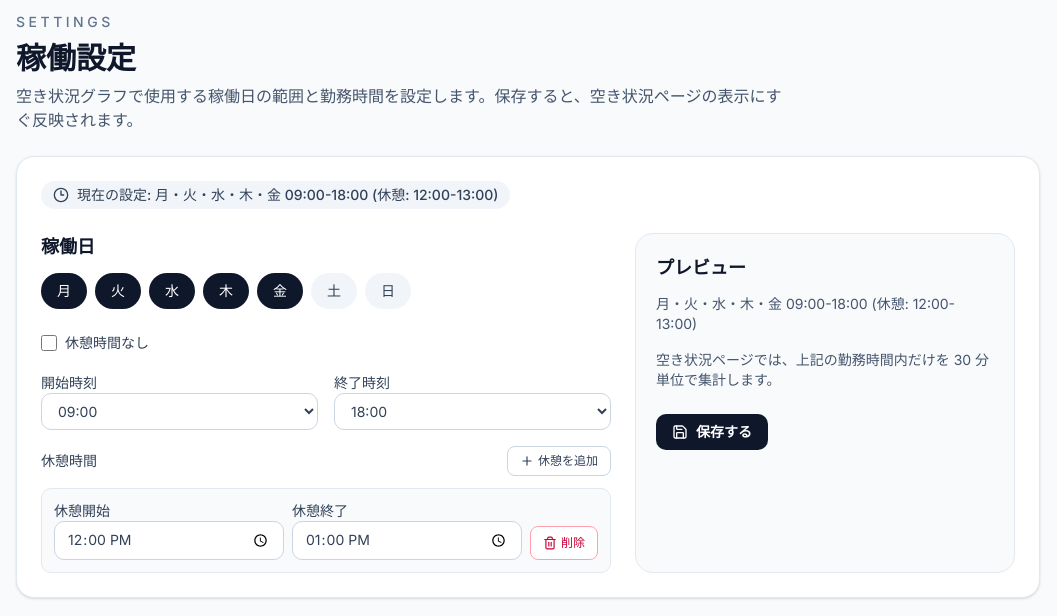
Test: WorkHoursPage integration › shows validation error when no working day is selected
What coordinates should you click on to do the following:
click the button "月"
I would click on:
 (64, 291)
Its box is [41,273,87,309].
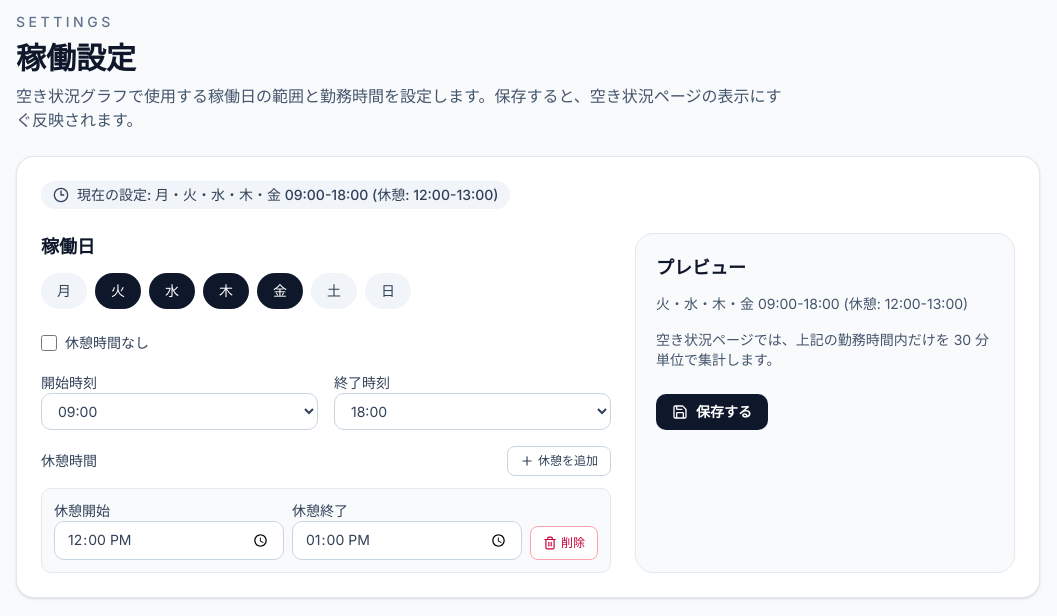
What coordinates should you click on to do the following:
click the button "火"
I would click on:
 (118, 291)
Its box is [95,273,141,309].
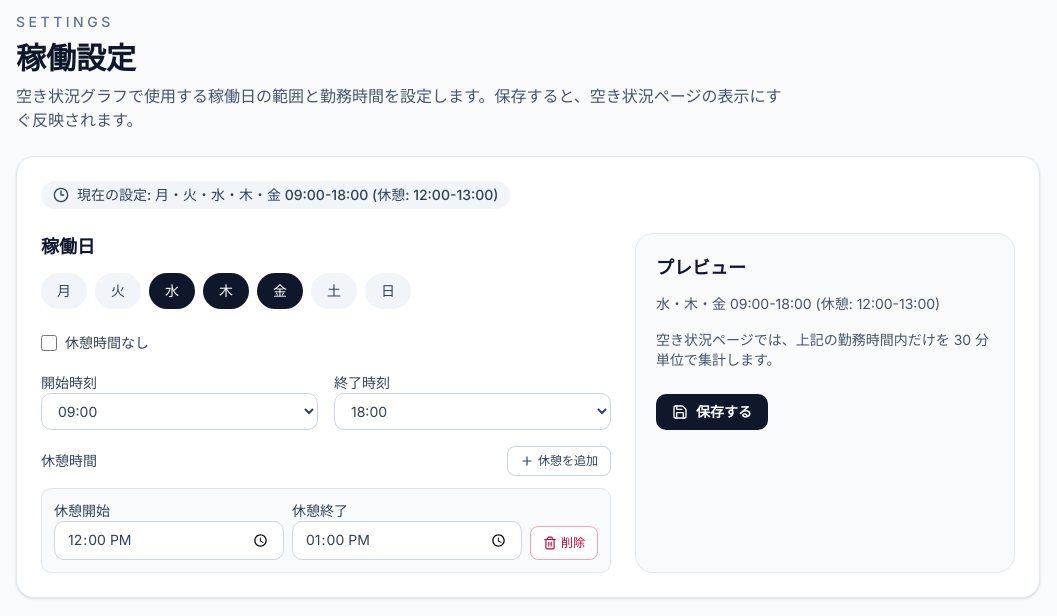
What coordinates should you click on to do the following:
click the button "水"
I would click on:
 (172, 291)
Its box is [149,273,195,309].
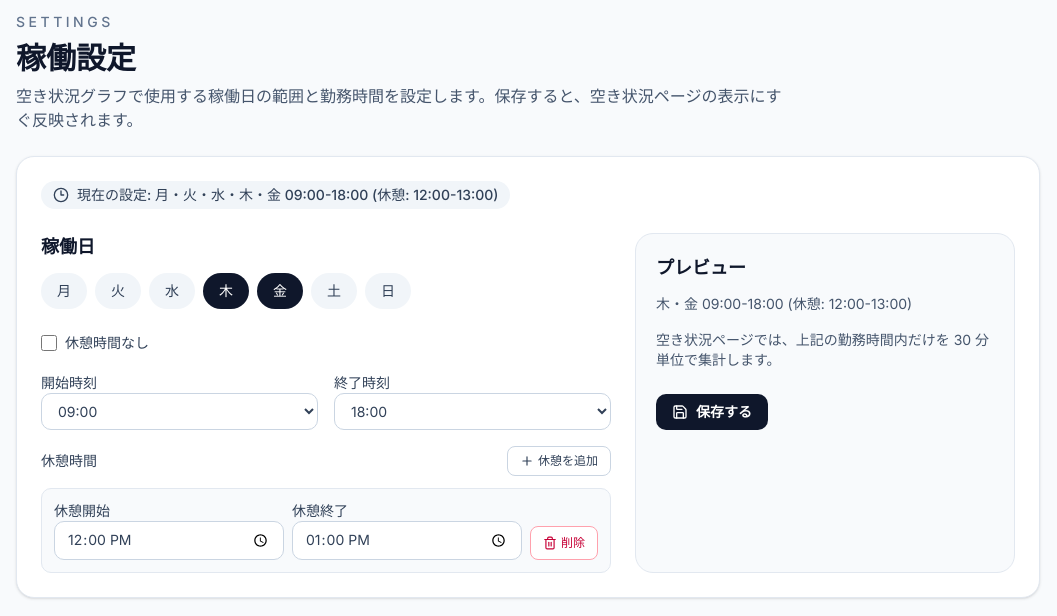
What coordinates should you click on to do the following:
click the button "木"
I would click on:
 (226, 291)
Its box is [203,273,249,309].
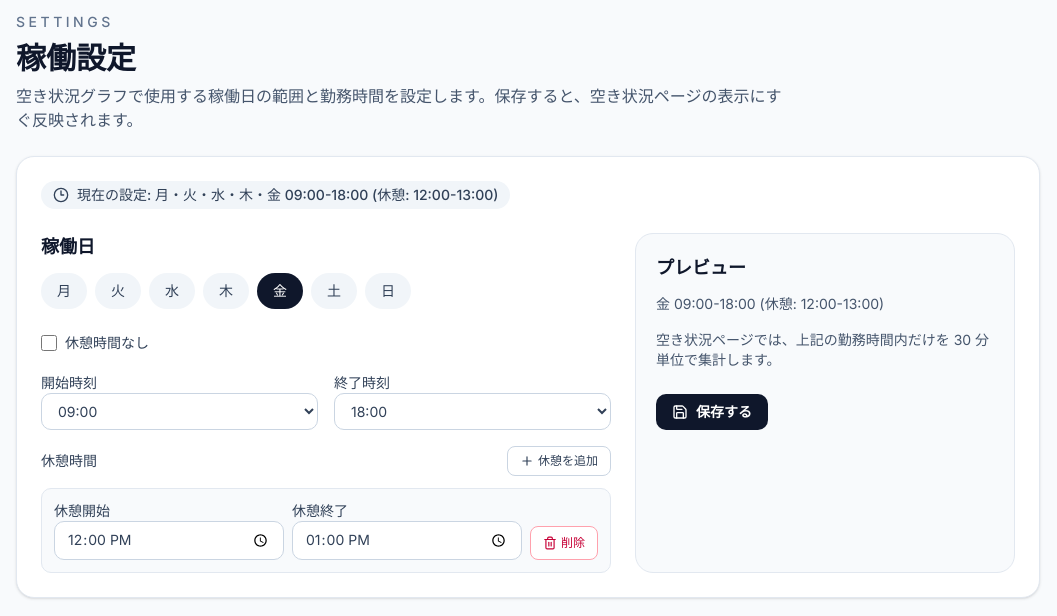
What coordinates should you click on to do the following:
click the button "金"
I would click on:
 (280, 291)
Its box is [257,273,303,309].
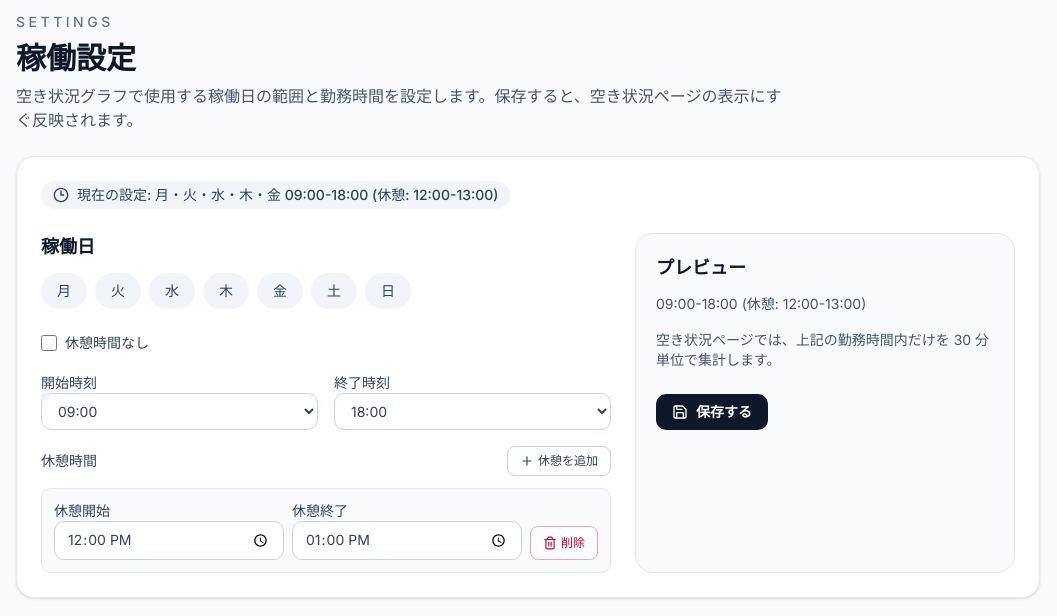
What coordinates should you click on to do the following:
click the button "保存する"
I would click on:
 (712, 412)
Its box is [656,394,768,430].
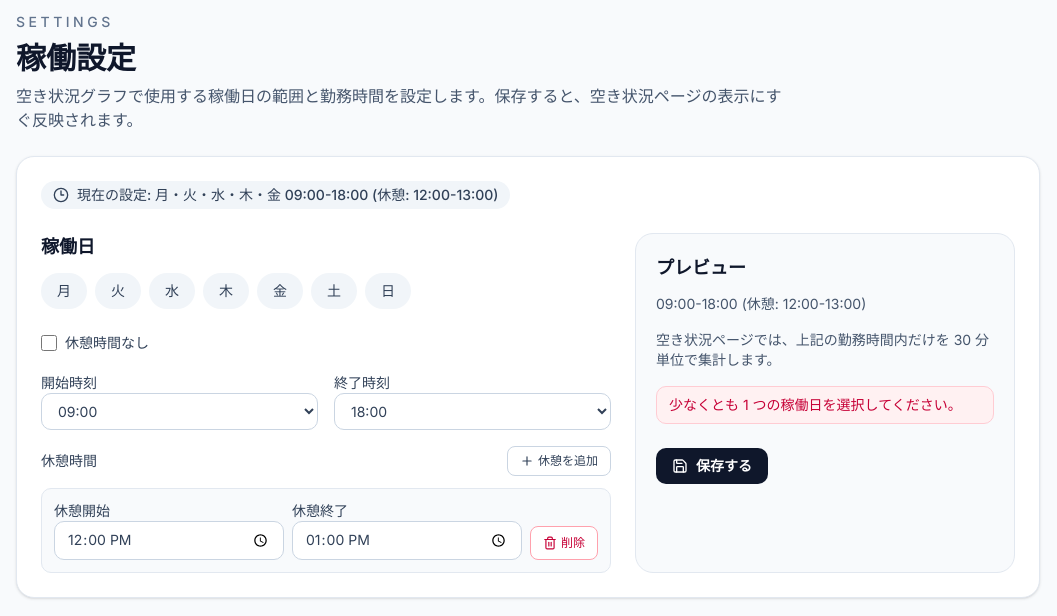
Result: the text "少なくとも 1 つの稼働日を選択してください。" is shown at [656,386,994,424]
